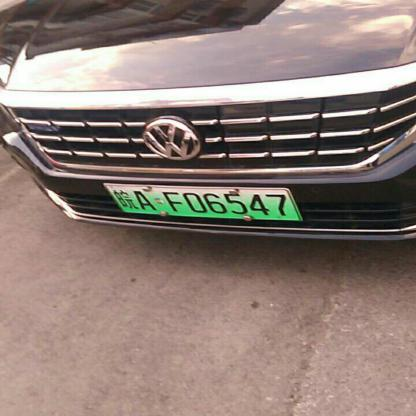lp: (103, 184, 301, 219)
